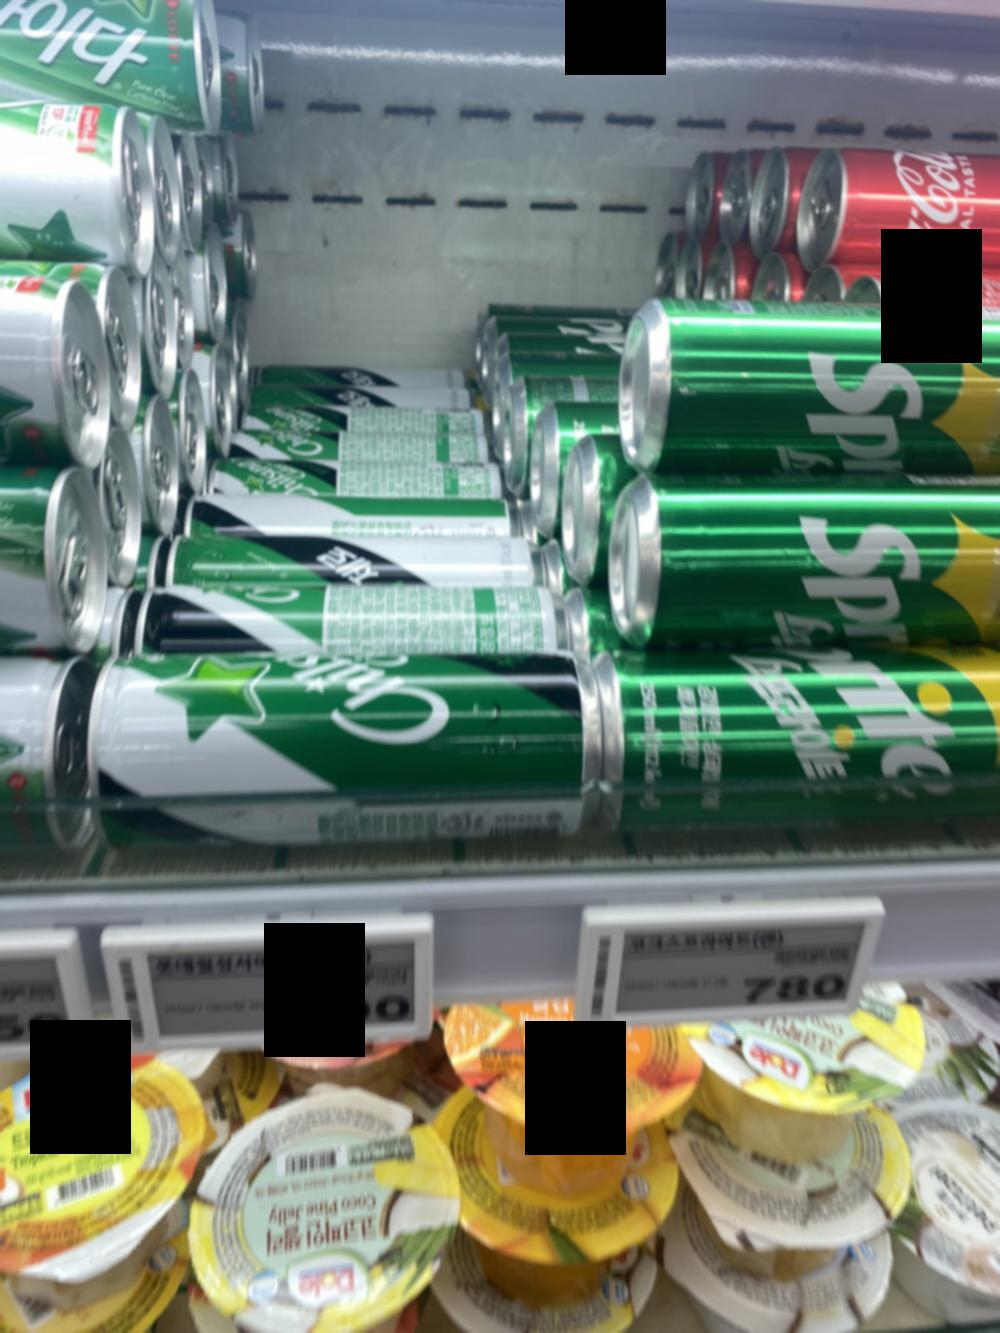chilsungcider_zero: (81, 654, 605, 800)
